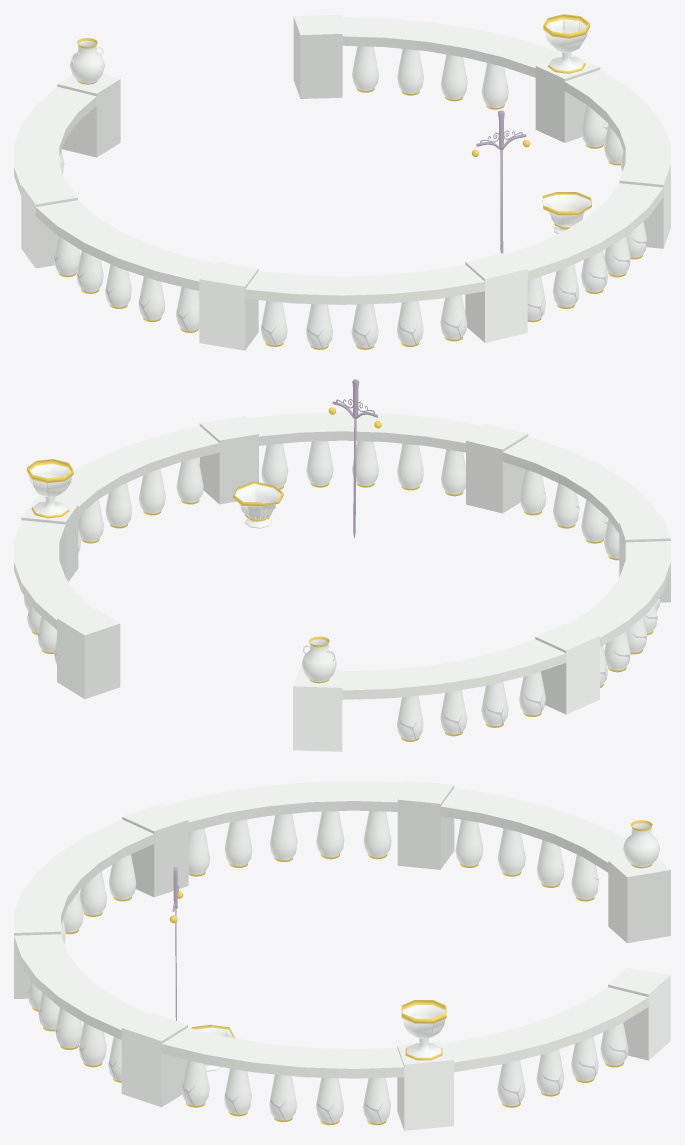
The model's file is Boss_Fence.glb.
3 views of the same model, one above another, from view 1: azimuth 30°, elevation 25°; view 2: azimuth 150°, elevation 25°; view 3: azimuth 270°, elevation 25° (orthographic). The views are drawn at different scales.
Parts seen in each view (by area): view 1: CercaBackup.001; view 2: CercaBackup.001; view 3: CercaBackup.001.
Part boxes in pixels (bbox=[...]): CercaBackup.001: bbox=[14, 14, 670, 350]; CercaBackup.001: bbox=[14, 379, 670, 751]; CercaBackup.001: bbox=[14, 780, 670, 1130].
Bounding box in the file's own units: 5.94 × 1.58 × 5.72.
1 material, 1 textured.
